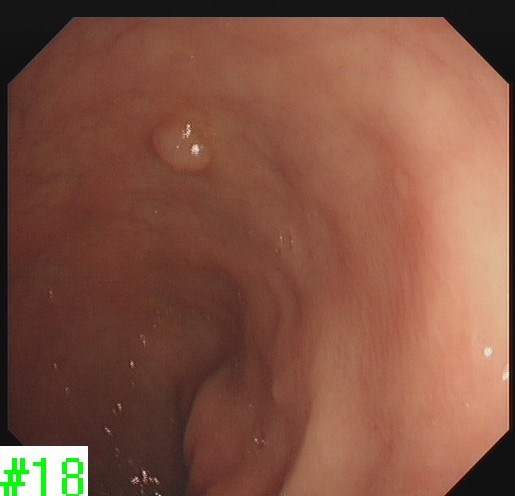adenoma: (146, 115, 218, 178)
